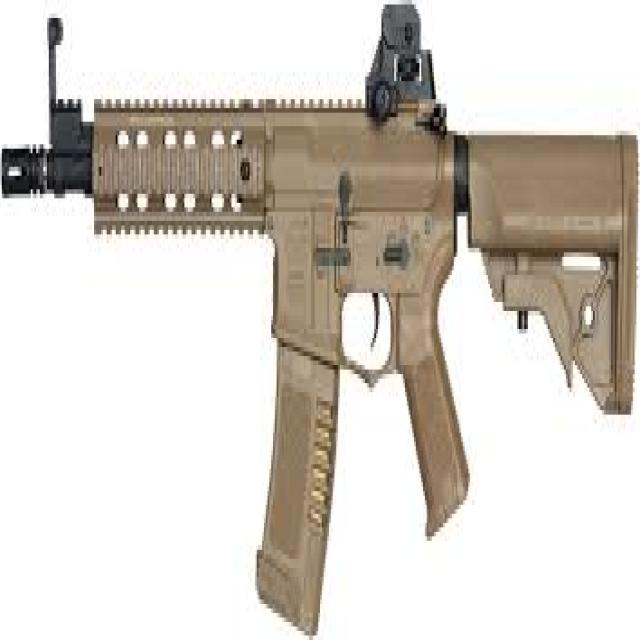rifle: (3, 8, 640, 640)
